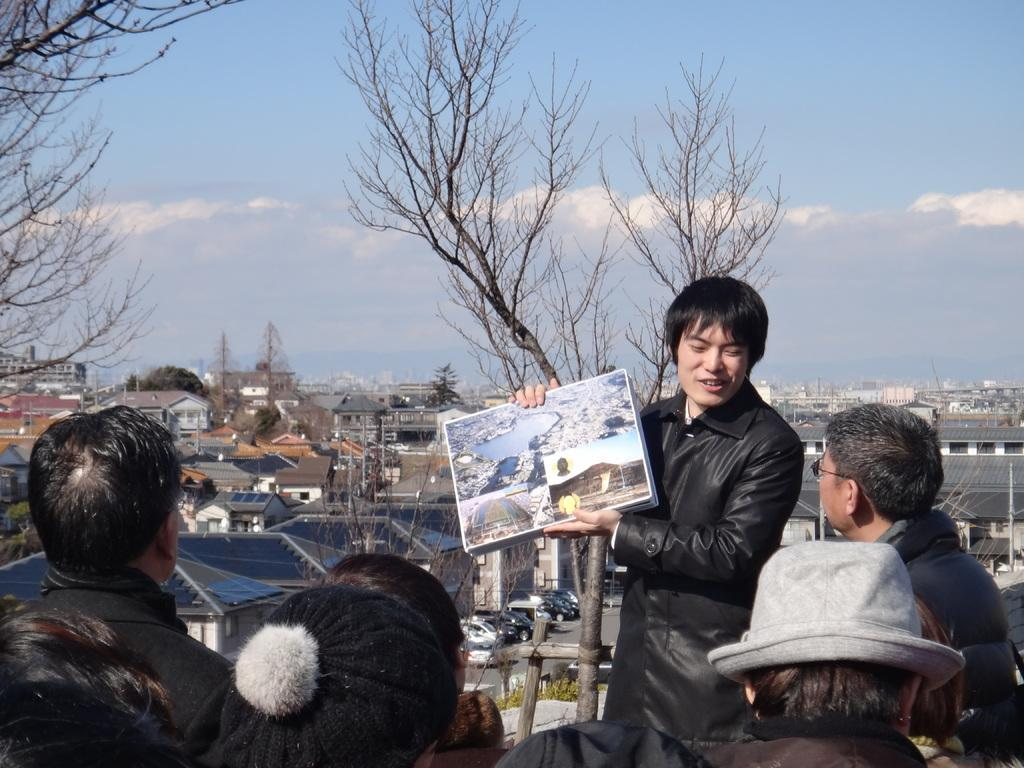Hat: (706, 542, 964, 692)
